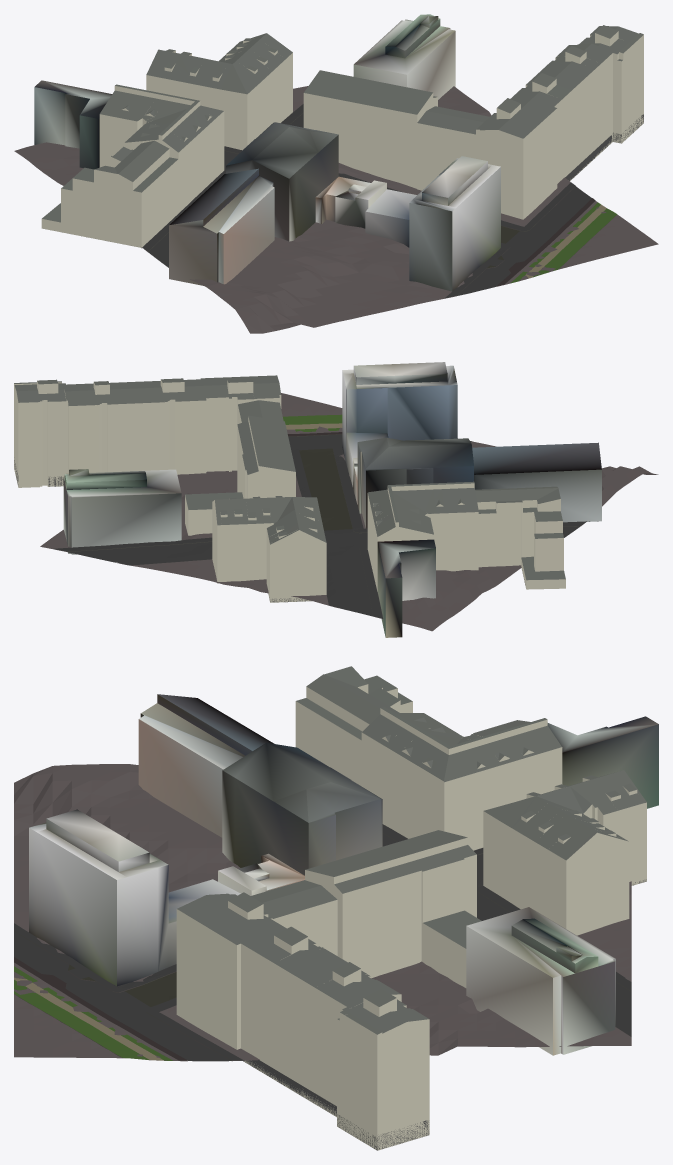
3 renders of one model, top to bottom at view 1: azimuth 30°, elevation 25°; view 2: azimuth 150°, elevation 25°; view 3: azimuth 270°, elevation 25°, orthographic. The views are drawn at different scales.
Visible parts, largest first — view 1: c_m06_p08; view 2: c_m06_p08; view 3: c_m06_p08.
Part boxes in pixels (<box>): c_m06_p08: <box>14,14,658,333</box>; c_m06_p08: <box>14,362,658,637</box>; c_m06_p08: <box>14,666,658,1150</box>.
Bounding box in the file's own units: 184 × 31.09 × 134.
